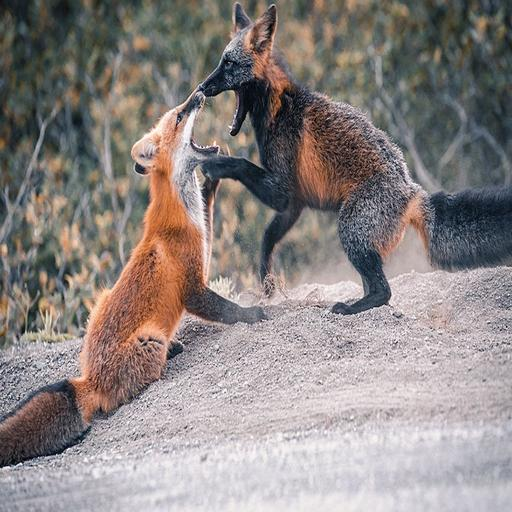Fox: (0, 89, 269, 471), (194, 0, 511, 319)
